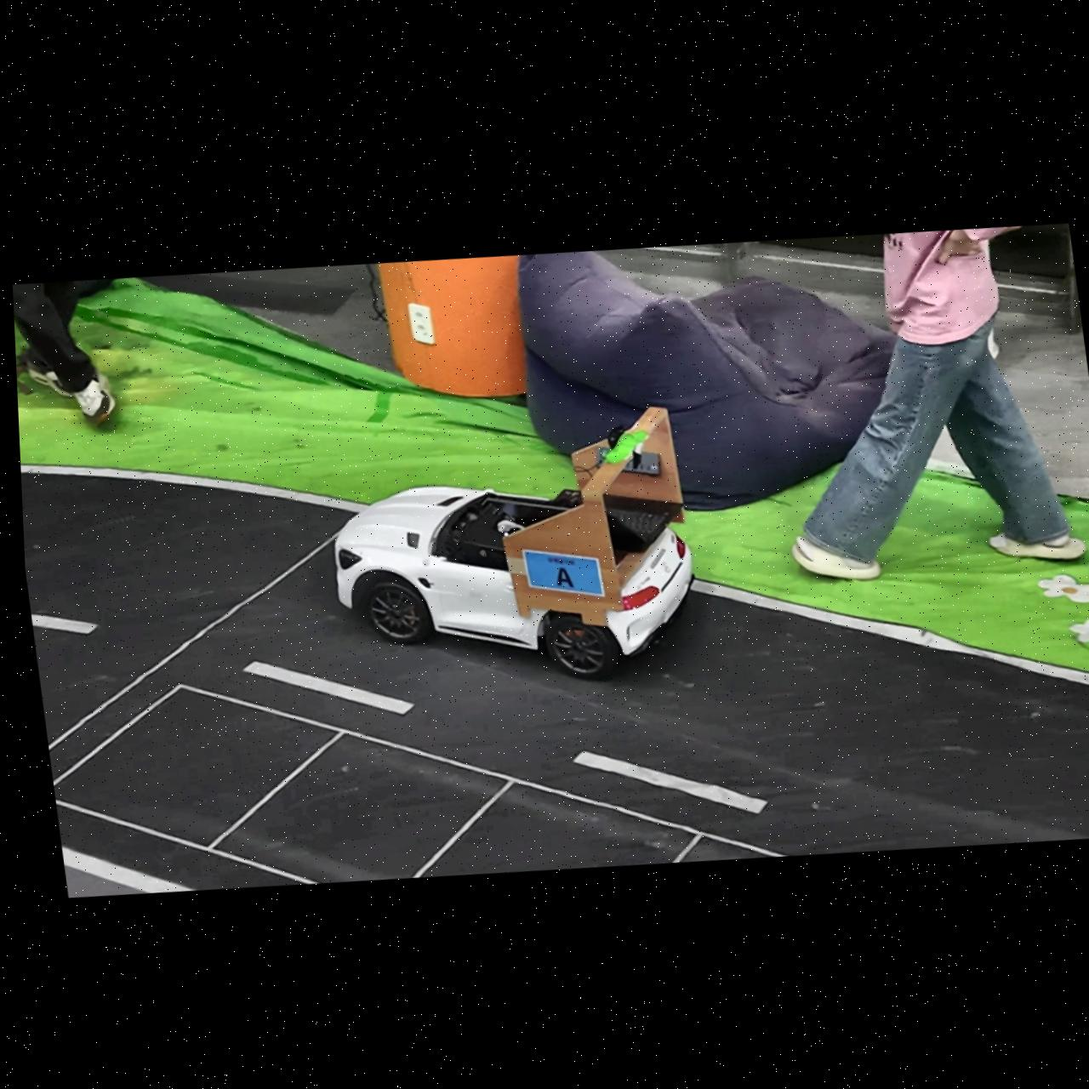broken_line: (573, 751, 768, 814), (242, 661, 415, 715), (31, 614, 98, 634)
